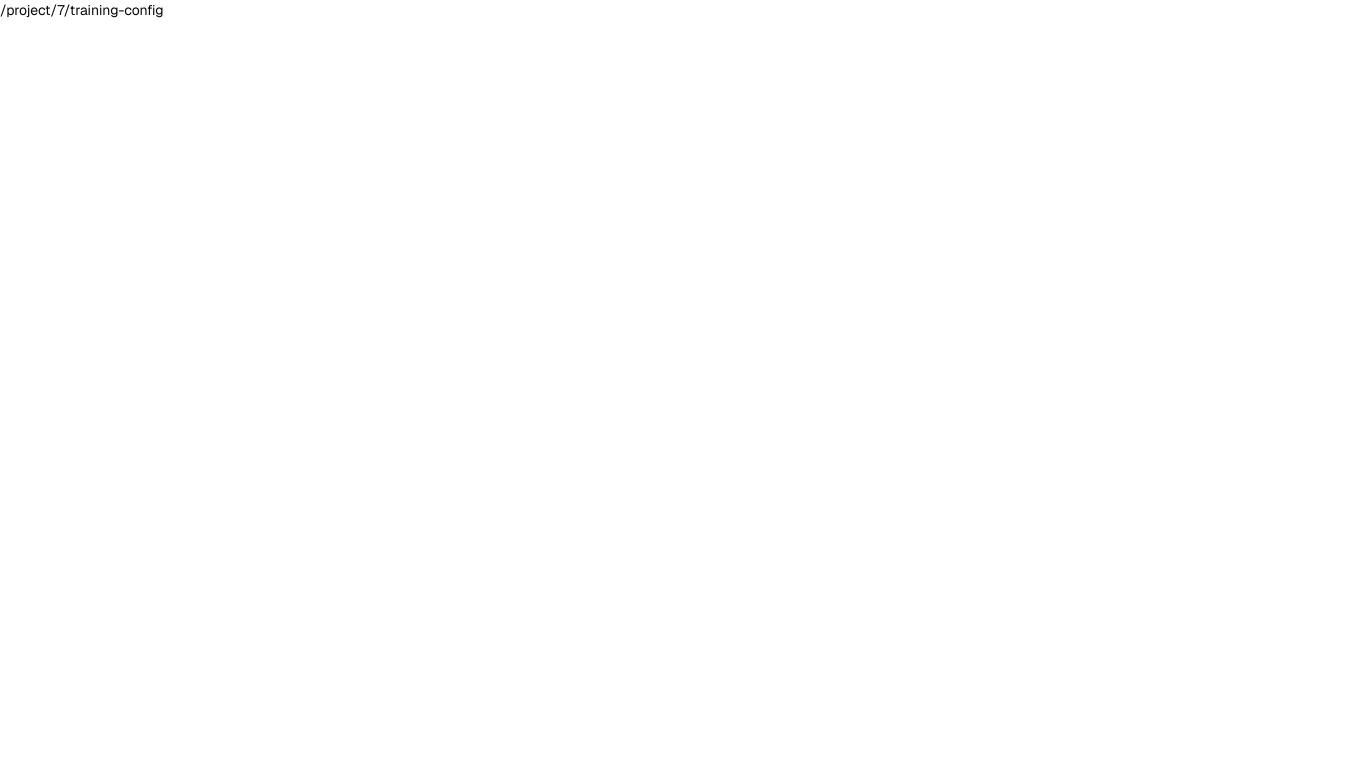
Test case: CommandPalette › filters by substring match
This screenshot has width=1366, height=768.
Type keys "{Meta>}k{/Meta}"
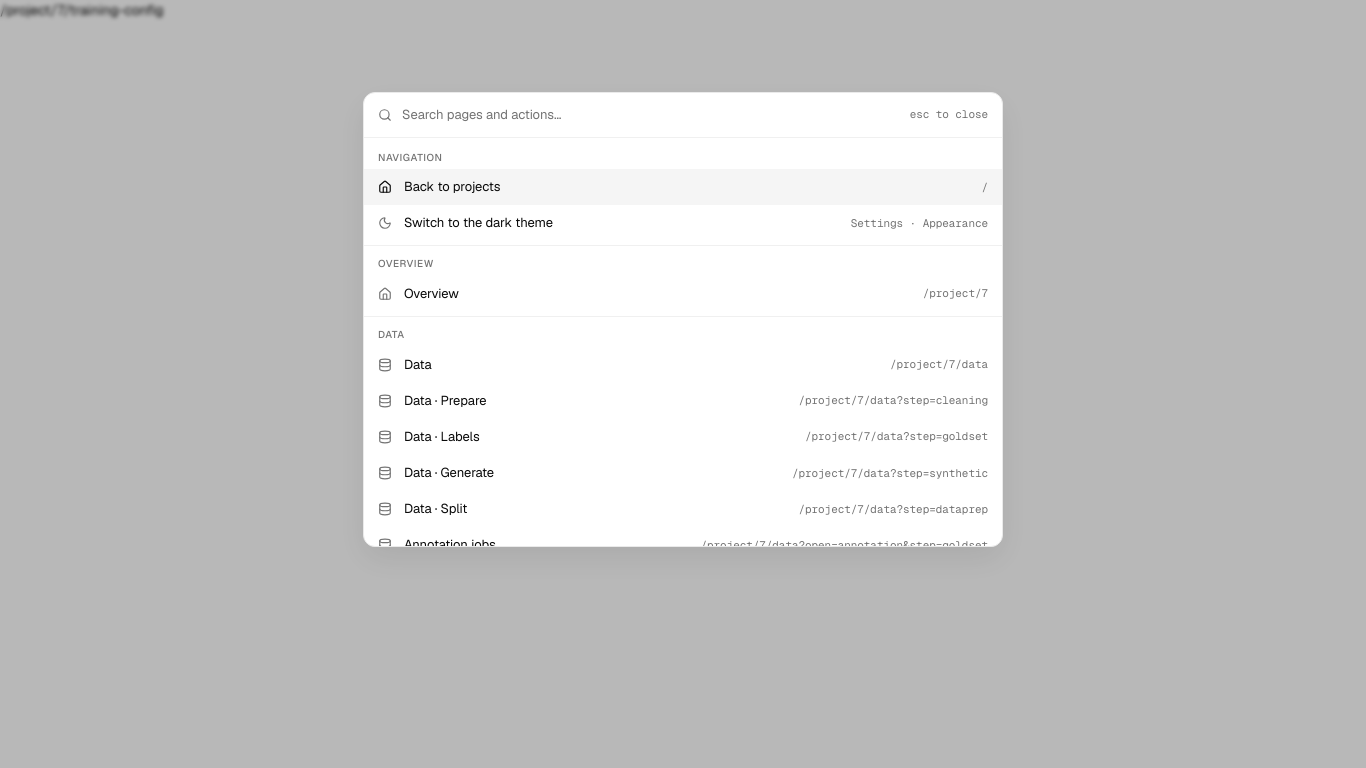
Expected: the dialog is shown, [363,92,1003,548]
In the field named "Command query": coordinates (651, 115) [402,105,900,125], type "observ"
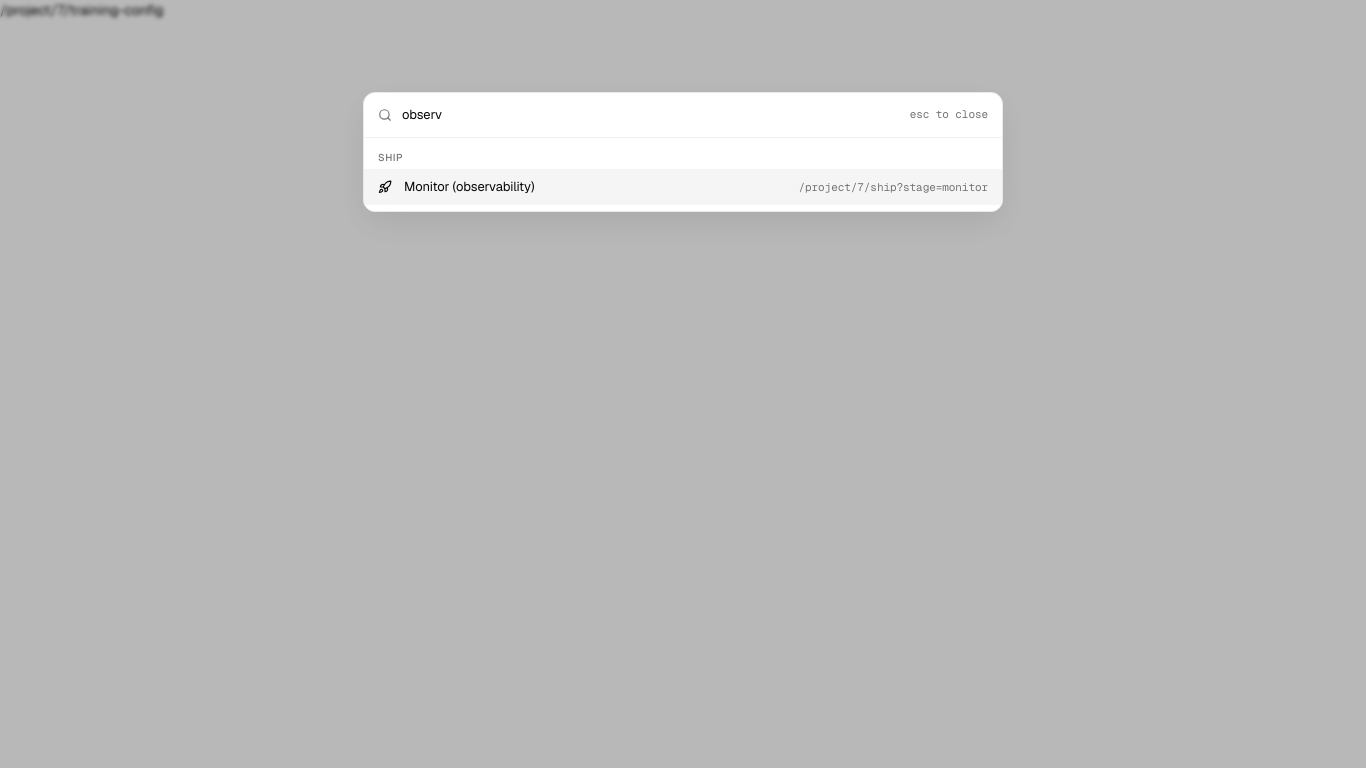
Expected: the text "Monitor (observability)" is shown, [404,178,534,195]
Expected: the option "Annotation jobs" is gone
